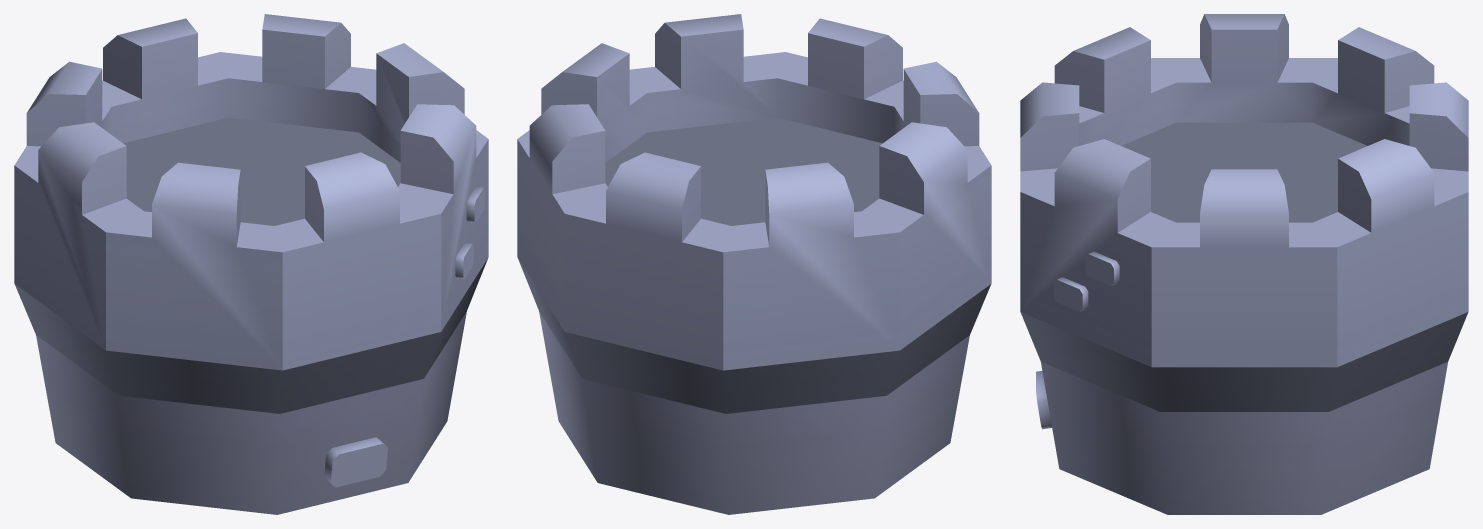
The model's file is kenney-pirate-tower-top.glb.
3 views of the same model, side by side, from view 1: azimuth 30°, elevation 25°; view 2: azimuth 150°, elevation 25°; view 3: azimuth 270°, elevation 25° (orthographic).
Parts seen in each view (by area): view 1: tower-top; view 2: tower-top; view 3: tower-top.
Boxes of the visible parts, x1=… form: tower-top: x1=14, y1=14, x2=488, y2=514; tower-top: x1=517, y1=14, x2=991, y2=514; tower-top: x1=1020, y1=14, x2=1468, y2=514.
Bounding box in the file's own units: 3.35 × 2.79 × 3.35.
1 material, 1 textured.
